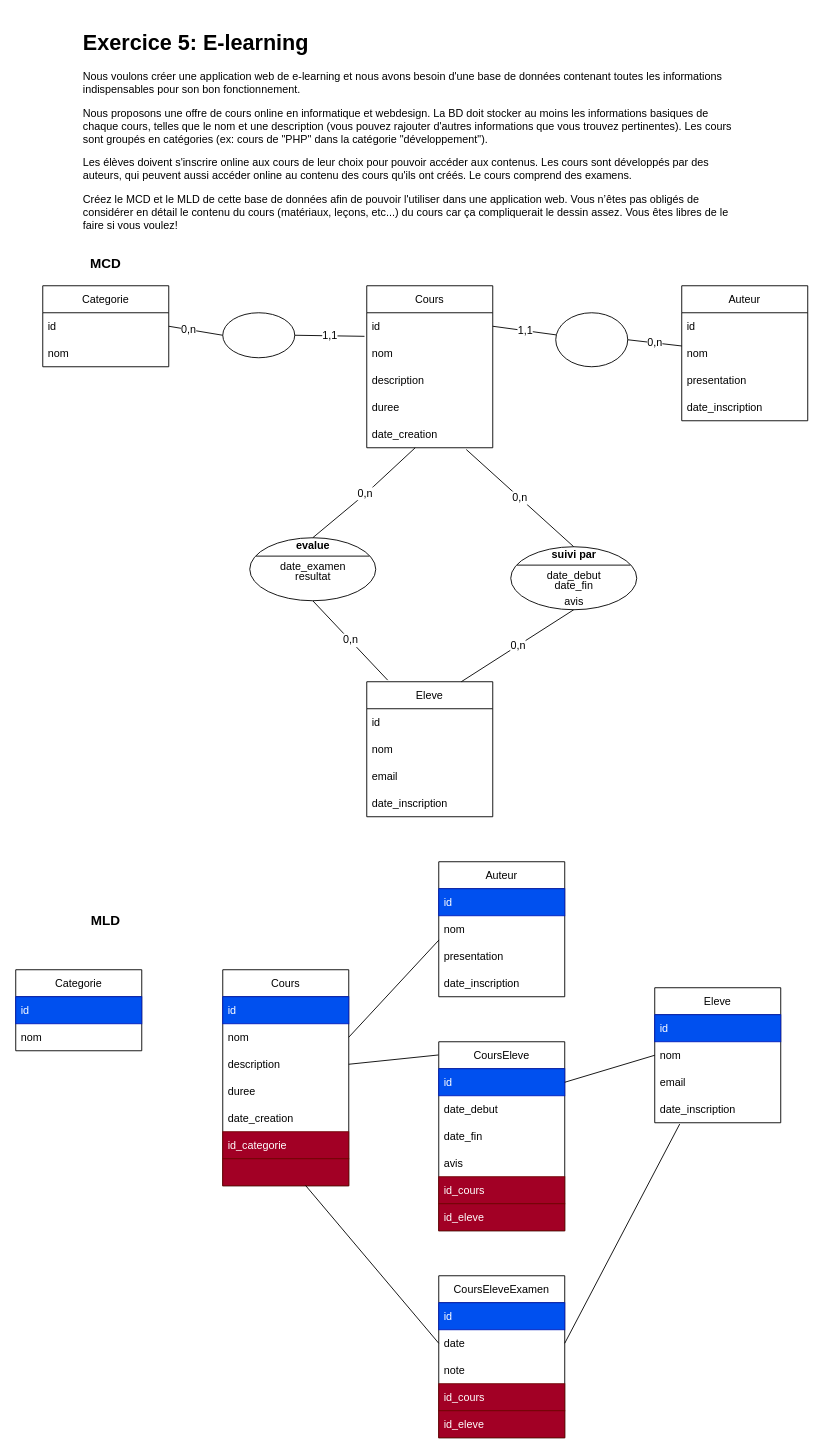
This 824x1454 diagram has some shape labels left out. Here are the shapes that lost their labels. From the top down, the centre of each, then its label:
At point (258, 335): "contient".
At point (591, 339): "cree par".
At point (285, 1172): "id_auteur".
